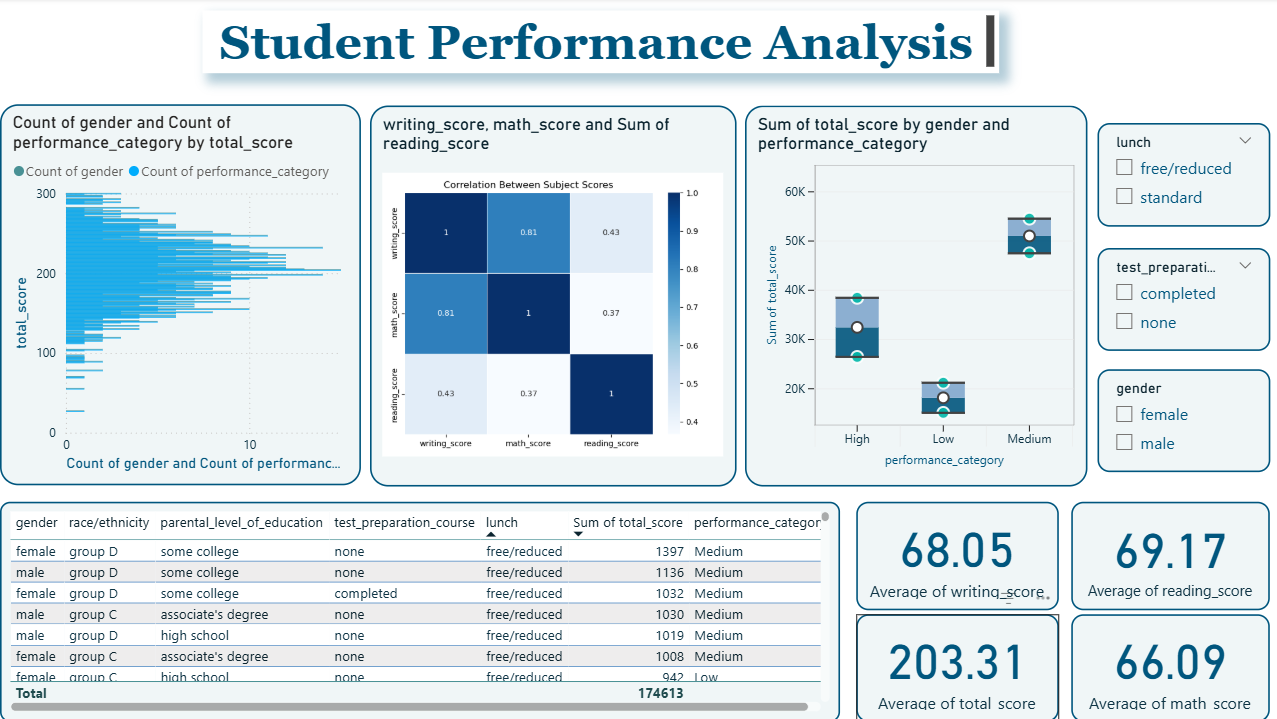

Layout of this report page (visuals, bound fields, positions):
{"tool":"powerbi","page":{"name":"Page 1","canvas":[1280,720],"ordinal":0},"visuals":[{"type":"slicer","fields":{"Values":["cleaned_student_performance (1).gender"]},"box":[1092.2,369.5,171.7,102],"z":0},{"type":"slicer","fields":{"Values":["cleaned_student_performance (1).lunch"]},"box":[1092.2,124.4,171.7,103.2],"z":1000},{"type":"slicer","fields":{"Values":["cleaned_student_performance (1).test_preparation_course"]},"box":[1092.2,248.8,171.7,102],"z":2000},{"type":"clusteredBarChart","fields":{"Category":["cleaned_student_performance (1).total_score"],"Y":["CountNonNull(cleaned_student_performance (1).gender)","CountNonNull(cleaned_student_performance (1).performance_category)"]},"box":[0,105.5,359.5,379.1],"z":3000},{"type":"BoxandWhiskerByMAQ1823AD39DT234AB532063E128AX","fields":{"measure":["Sum(cleaned_student_performance (1).total_score)"],"categoryGroup":["cleaned_student_performance (1).performance_category"],"category":["cleaned_student_performance (1).gender"]},"box":[741.1,106.7,341.1,379.1],"z":4000},{"type":"card","fields":{"Values":["Avg(cleaned_student_performance (1).math_score)"]},"box":[1066.1,613.3,197.8,107],"z":5000},{"type":"card","fields":{"Values":["Avg(cleaned_student_performance (1).reading_score)"]},"box":[1066.1,501.3,197.8,108.2],"z":6000},{"type":"card","fields":{"Values":["Avg(cleaned_student_performance (1).total_score)"]},"box":[852.1,613.3,201.5,107],"z":7000},{"type":"card","fields":{"Values":["Avg(cleaned_student_performance (1).writing_score)"]},"box":[852.1,501.3,201.5,108.2],"z":8000},{"type":"pythonVisual","fields":{"Values":["cleaned_student_performance (1).writing_score","cleaned_student_performance (1).math_score","Sum(cleaned_student_performance (1).reading_score)"]},"box":[368.6,106.8,364.7,379],"z":9000},{"type":"tableEx","fields":{"Values":["cleaned_student_performance (1).gender","cleaned_student_performance (1).race/ethnicity","cleaned_student_performance (1).parental_level_of_education","cleaned_student_performance (1).test_preparation_course","cleaned_student_performance (1).lunch","Sum(cleaned_student_performance (1).total_score)","cleaned_student_performance (1).performance_category"]},"box":[0,501.3,835.9,218.9],"z":10000},{"type":"textbox","box":[201.2,12.3,792.6,62.6],"z":11000}]}

Visuals, with their boxes in screenshot pixels (x1, y1, x2, y2), scaled from the page's 1280x720 canvas onto the 1277x719 screenshot:
slicer - cleaned_student_performance (1).gender: 1090:369:1261:471
slicer - cleaned_student_performance (1).lunch: 1090:124:1261:227
slicer - cleaned_student_performance (1).test_preparation_course: 1090:248:1261:350
clusteredBarChart - cleaned_student_performance (1).total_score x CountNonNull(cleaned_student_performance (1).gender): 0:105:359:484
BoxandWhiskerByMAQ1823AD39DT234AB532063E128AX - Sum(cleaned_student_performance (1).total_score) x cleaned_student_performance (1).performance_category: 739:107:1080:485
card - Avg(cleaned_student_performance (1).math_score): 1064:612:1261:718
card - Avg(cleaned_student_performance (1).reading_score): 1064:501:1261:609
card - Avg(cleaned_student_performance (1).total_score): 850:612:1051:718
card - Avg(cleaned_student_performance (1).writing_score): 850:501:1051:609
pythonVisual - cleaned_student_performance (1).writing_score x cleaned_student_performance (1).math_score: 368:107:732:485
tableEx - cleaned_student_performance (1).gender x cleaned_student_performance (1).race/ethnicity: 0:501:834:718
textbox: 201:12:991:75
